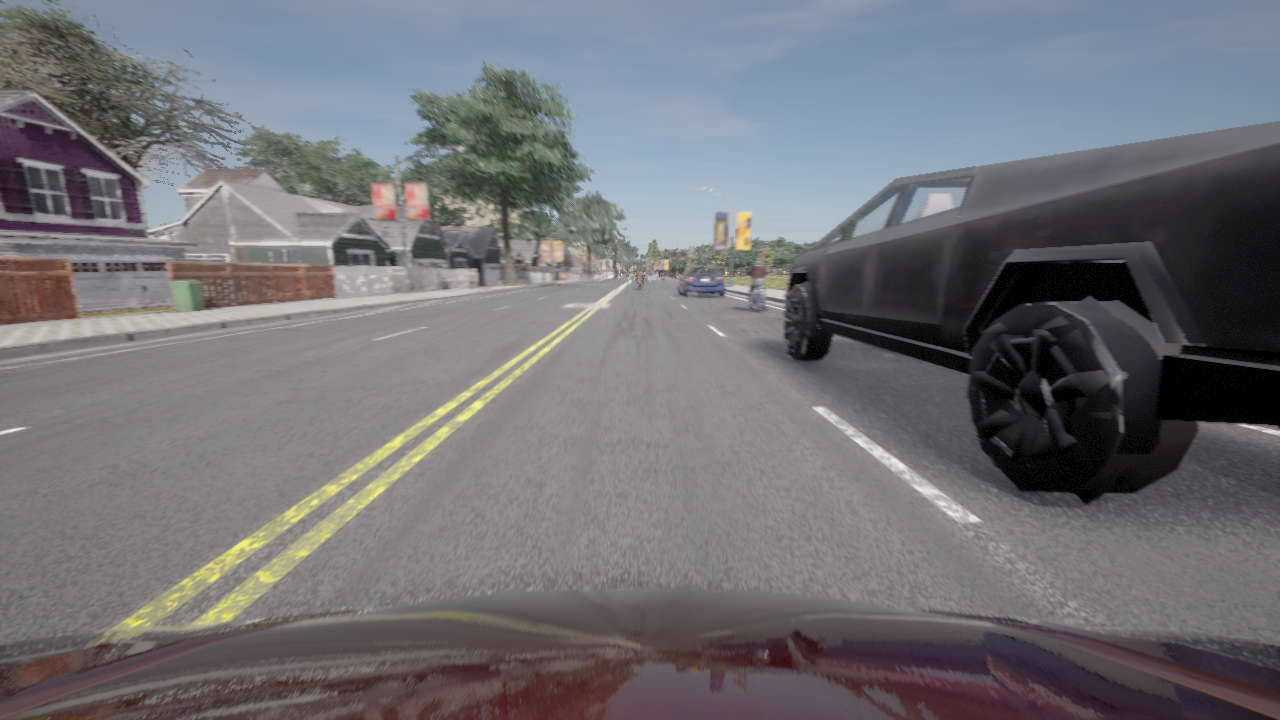cyclist: (780, 122, 1279, 505), (0, 588, 1279, 719), (678, 265, 724, 296), (749, 288, 762, 311), (637, 277, 642, 289)
